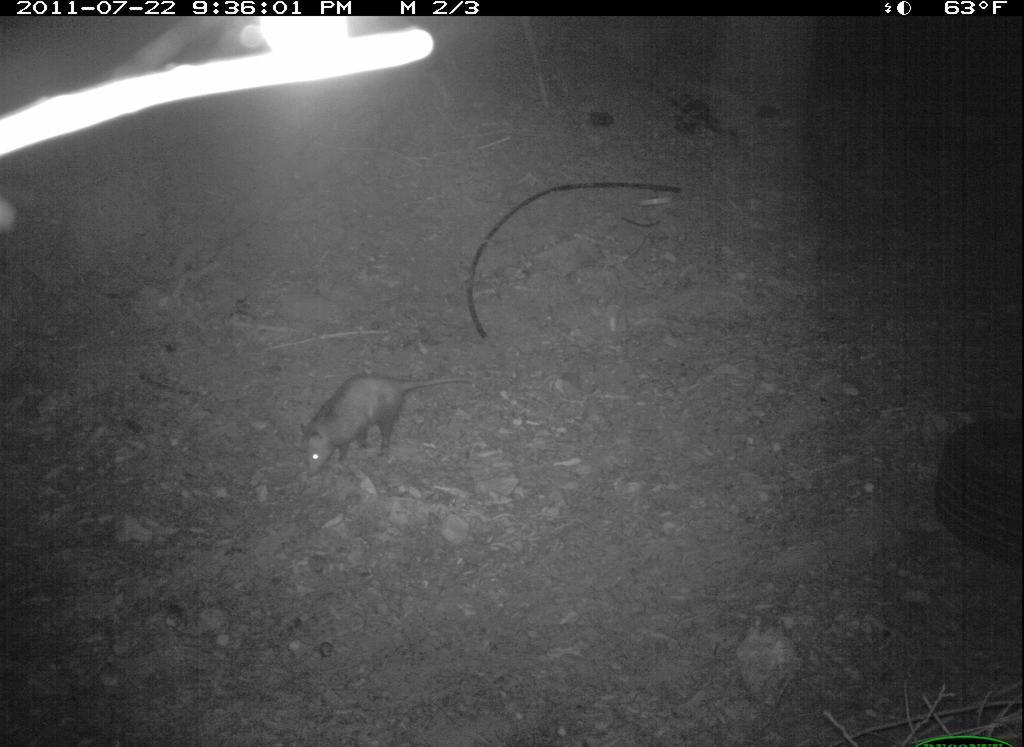opossum: (277, 357, 485, 498)
